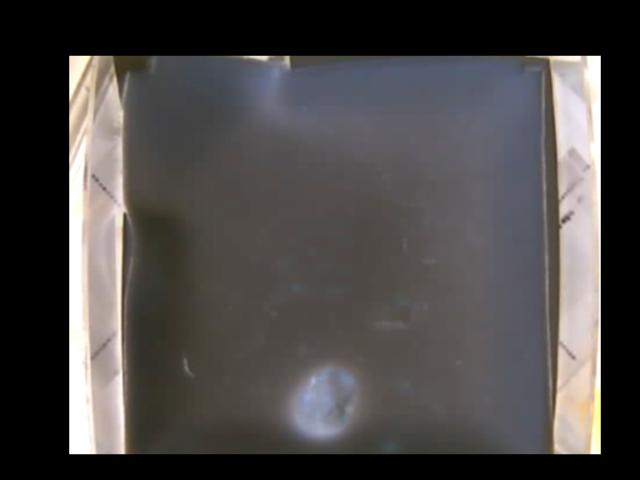Pebble: (293, 366, 357, 435)
